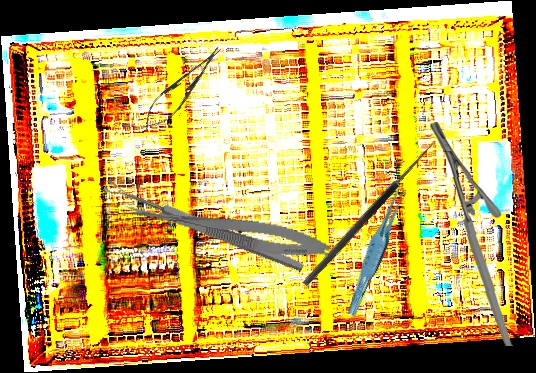Hook Surgical: (294, 132, 438, 289)
Micro Scissor: (120, 198, 333, 264)
Needle Holder: (424, 121, 517, 347), (135, 39, 230, 138)
Surgical Spoon: (102, 177, 306, 275)
Tissue Forceps: (337, 183, 417, 318)
